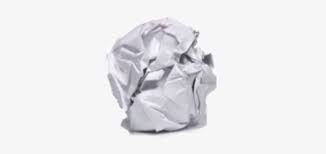crumpled paper: (73, 18, 213, 154)
